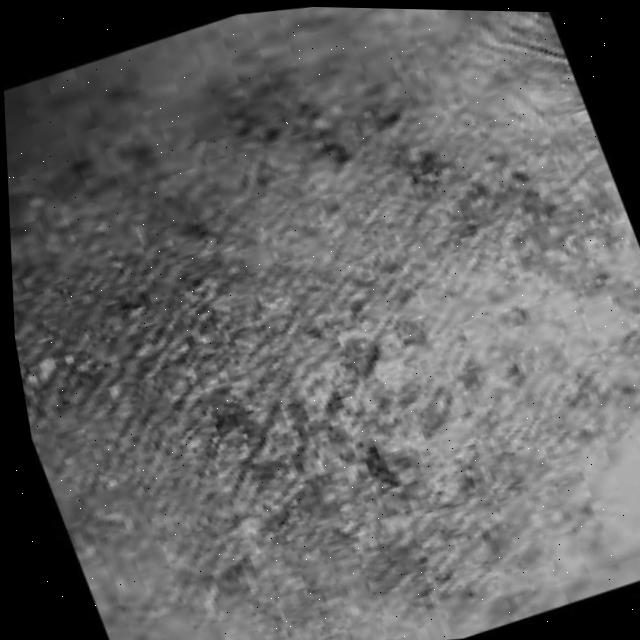Eczema: (1, 29, 580, 543)
